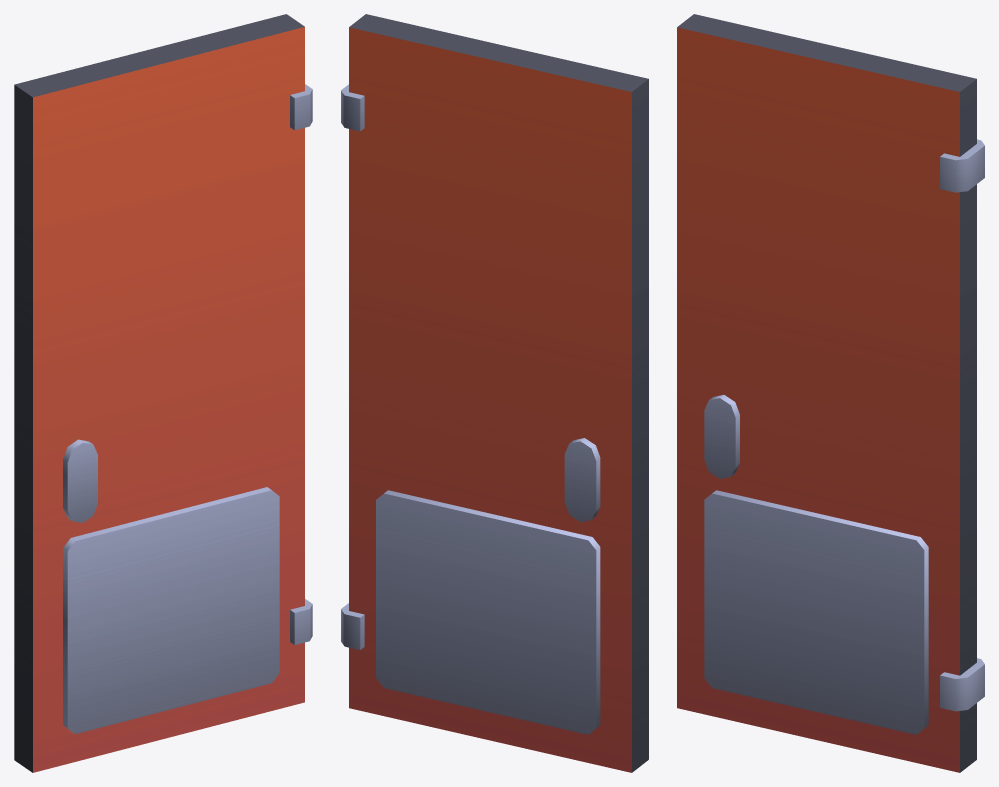
The model's file is red-door-3d.glb.
3 views of the same model, side by side, from view 1: azimuth 30°, elevation 25°; view 2: azimuth 150°, elevation 25°; view 3: azimuth 330°, elevation 25° (orthographic).
Visible parts, largest first — view 1: door; view 2: door; view 3: door.
Part boxes in pixels (x1,y1,x2,y2): door: [14, 14, 312, 772]; door: [341, 14, 648, 772]; door: [677, 14, 984, 772].
Size of the model in its own units: 0.9273 by 2.1 by 0.1714.
Materials: 1 (1 with a texture image).
